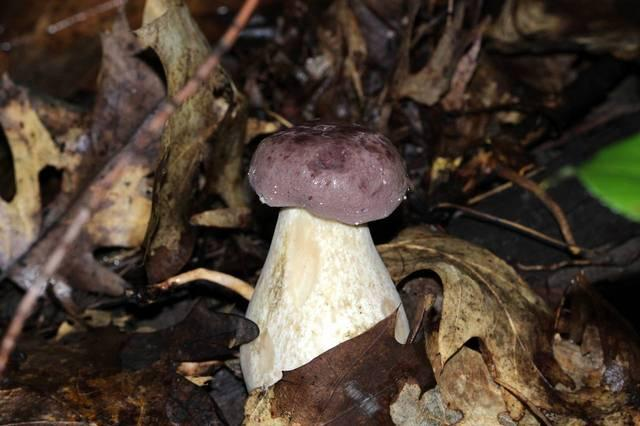Non-edible Mushroom: (237, 121, 413, 394)
